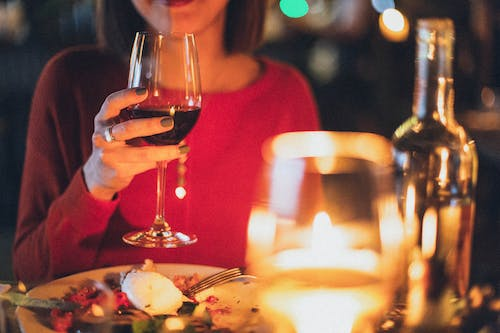alcohol: (384, 17, 480, 320), (121, 30, 203, 248)
